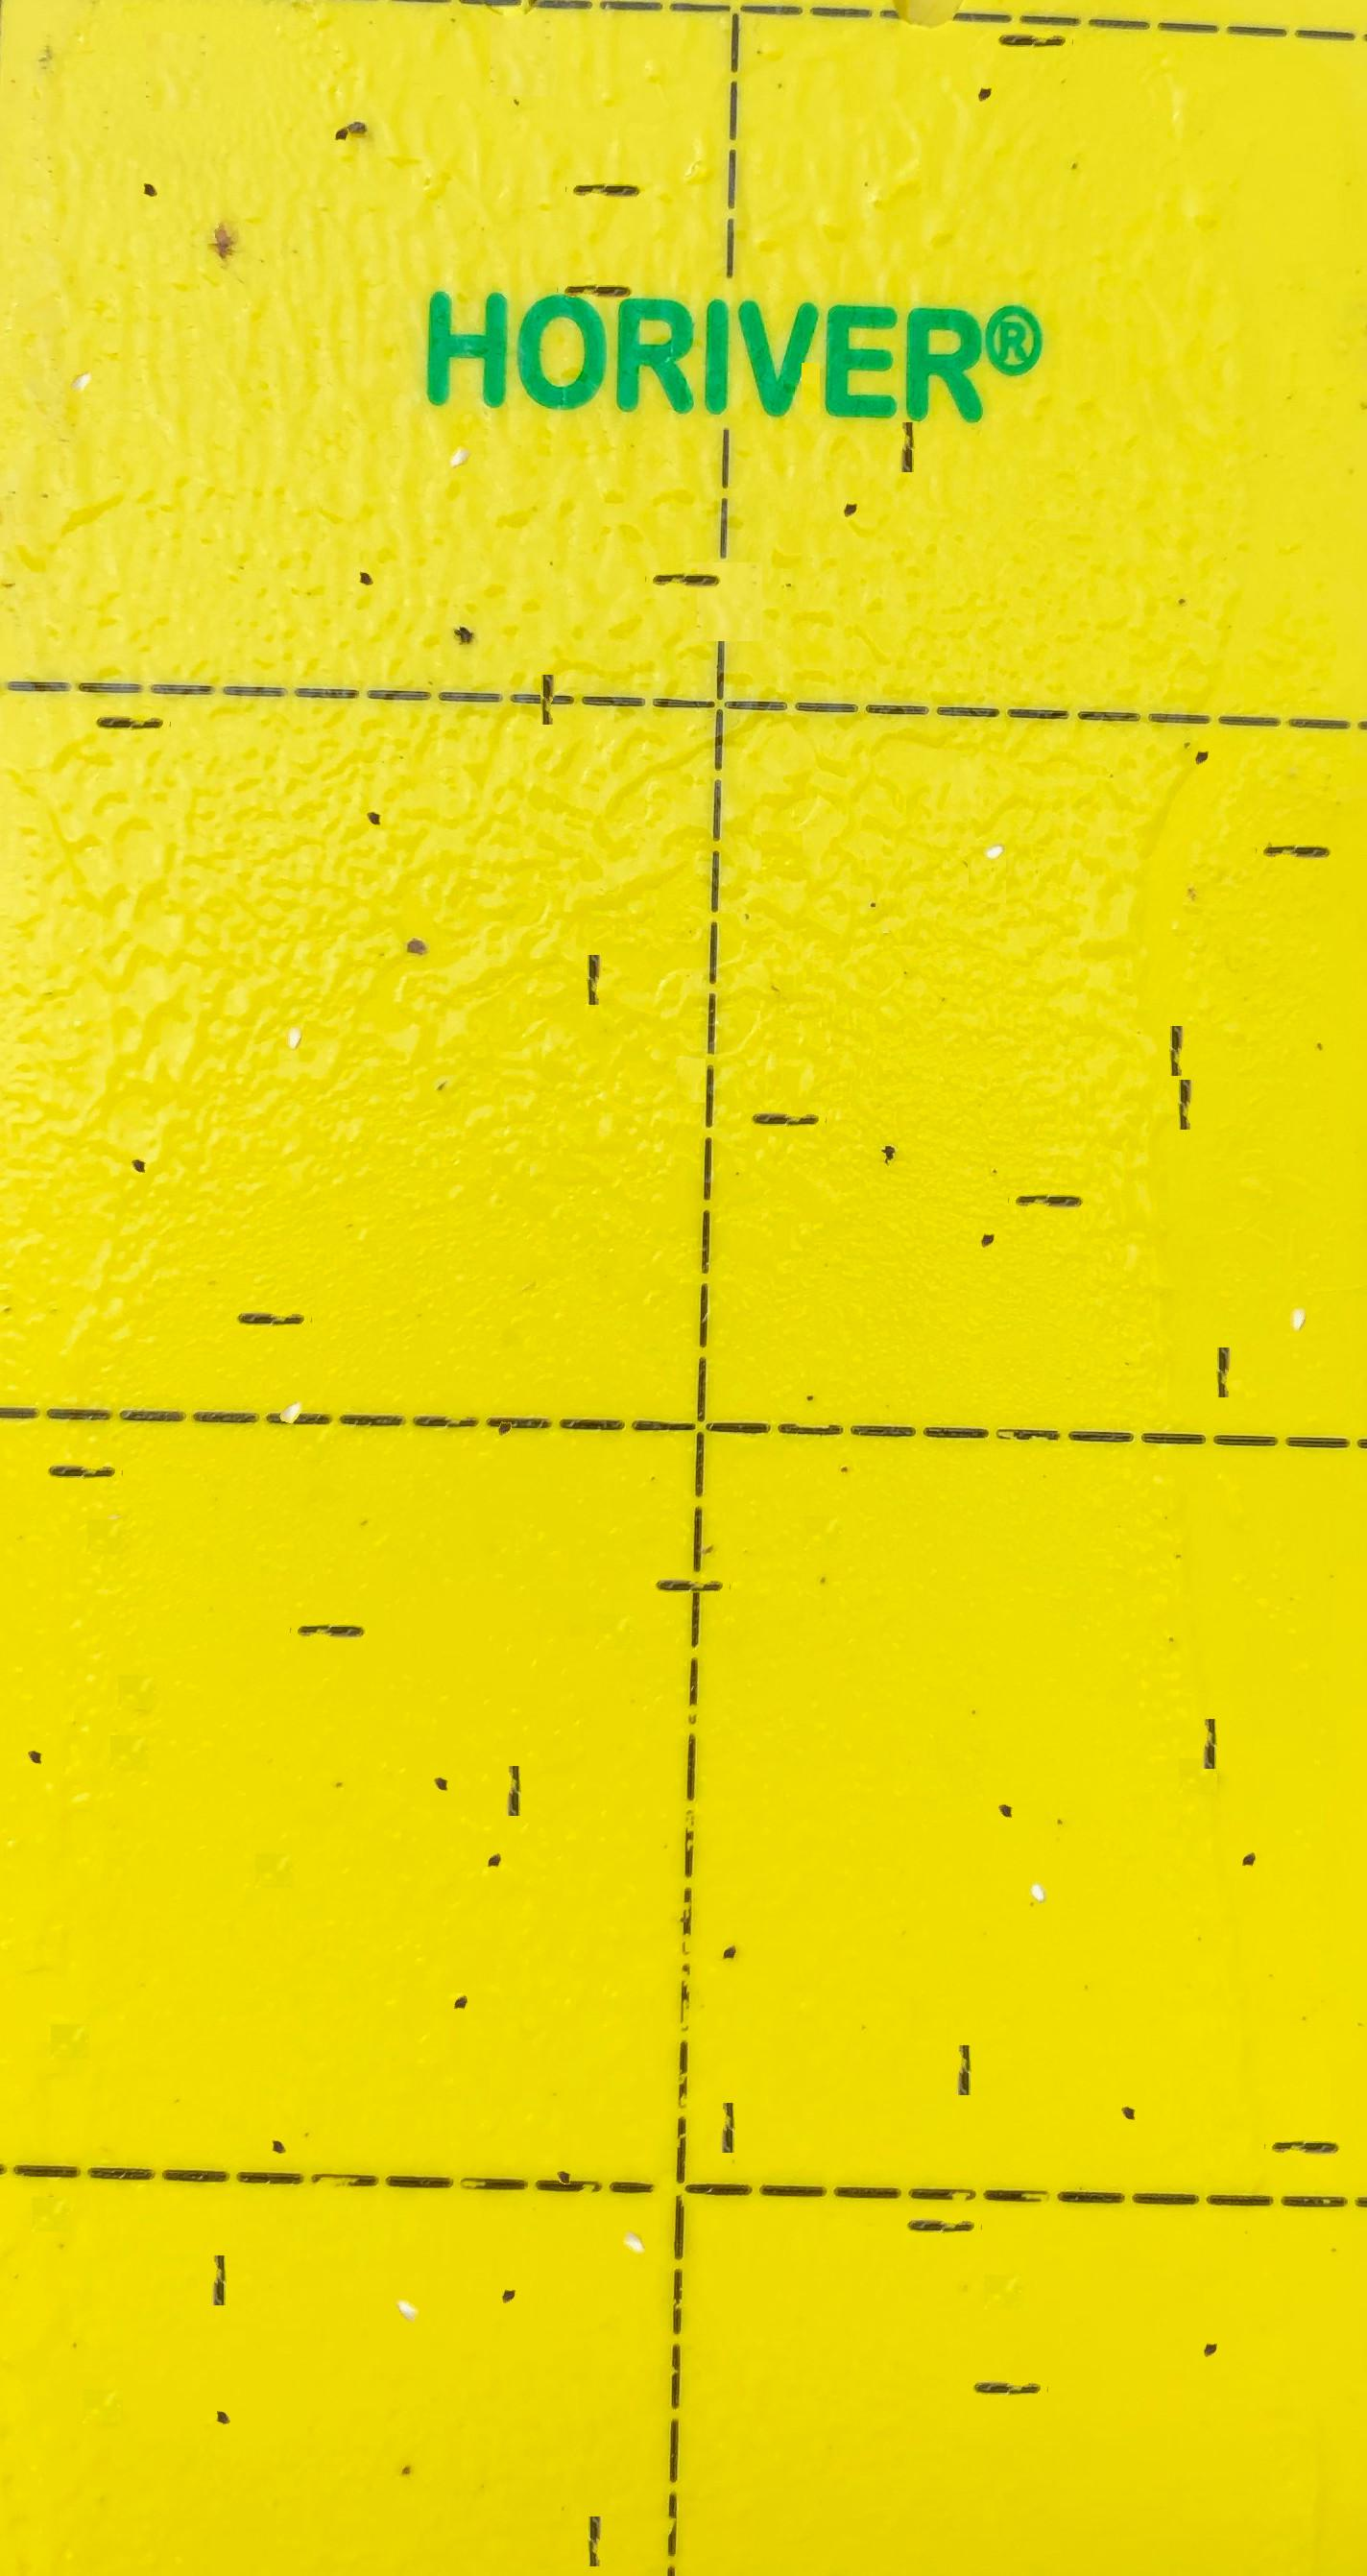white_fly: (1018, 1820, 1060, 1867), (973, 779, 1014, 828), (269, 1348, 312, 1392), (612, 2177, 655, 2220), (60, 319, 102, 361), (438, 392, 481, 434), (387, 2247, 430, 2290), (276, 981, 317, 1019), (1280, 1262, 1321, 1300)
